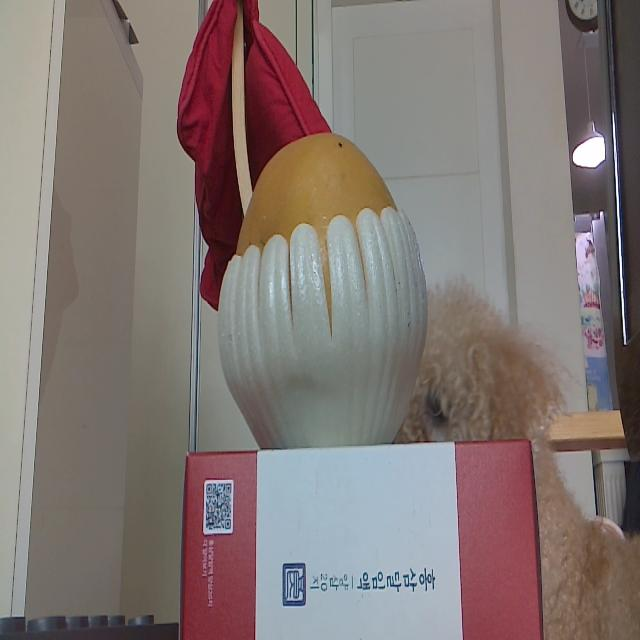pear: (217, 134, 423, 446)
